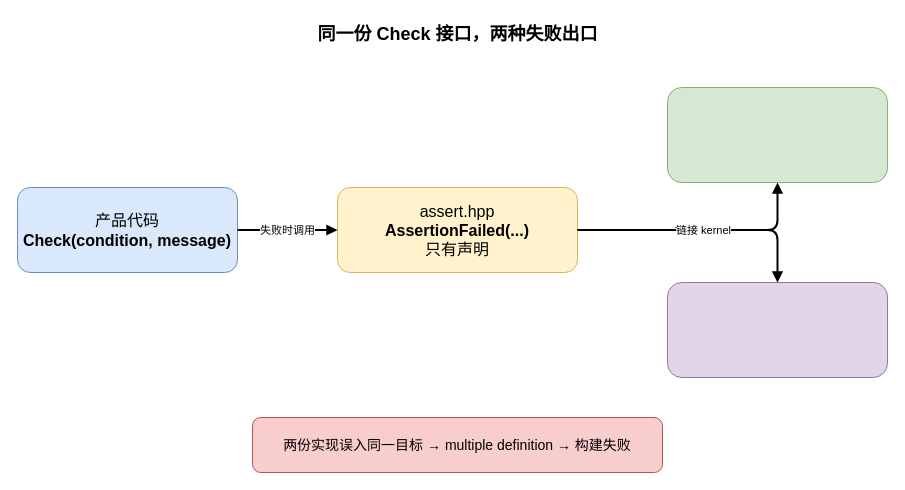
Image size: 905x490. Some labels were removed from this diagram. The box of each missing label's shape, as (x1, y1, x2, y2) in pixels:
内核目标 assert_kernel.cpp 崩溃报告 + halt: (666, 282, 888, 378)
宿主测试目标 assert_host.cpp stderr + abort: (666, 86, 888, 182)
